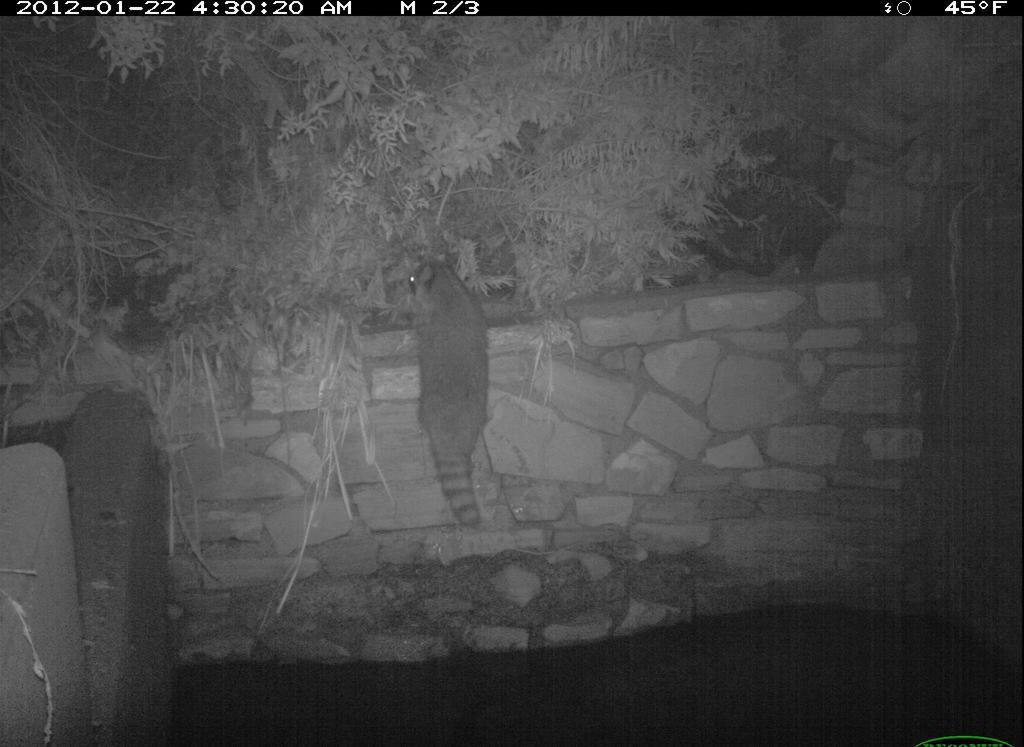raccoon: (391, 248, 501, 534)
